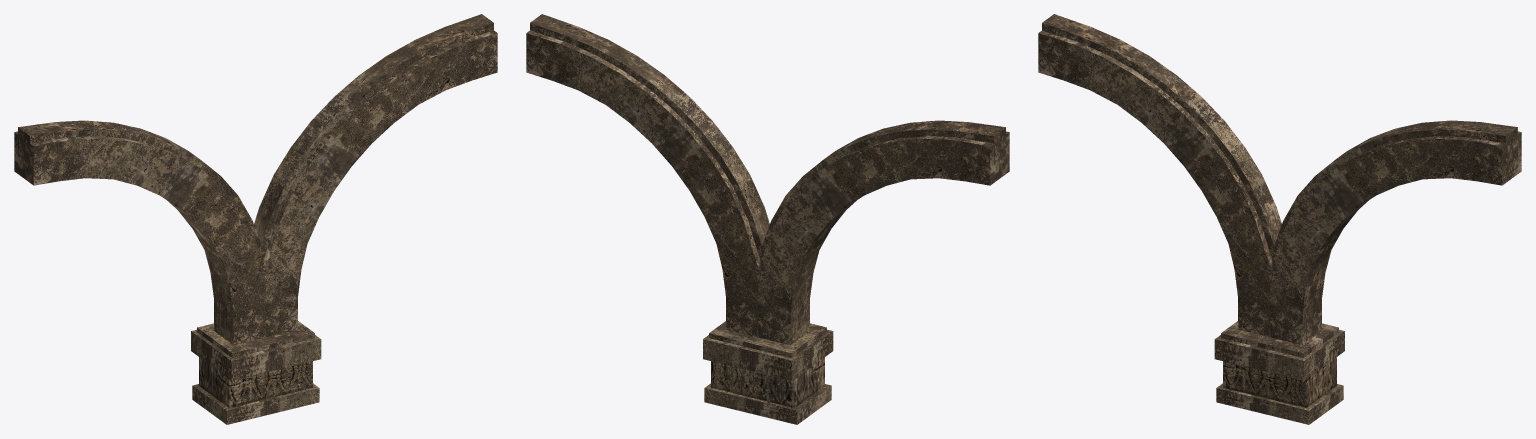
File: materials_5_arch_20.fbx
3 renders of one model, left to right at view 1: azimuth 30°, elevation 25°; view 2: azimuth 150°, elevation 25°; view 3: azimuth 330°, elevation 25°, orthographic.
Parts seen in each view (by area): view 1: materials_5_arch_20; view 2: materials_5_arch_20; view 3: materials_5_arch_20.
Boxes of the visible parts, x1,y1,x2,y2 form: materials_5_arch_20: [14, 14, 497, 424]; materials_5_arch_20: [526, 14, 1009, 424]; materials_5_arch_20: [1038, 14, 1521, 424].
Bounding box in the file's own units: 168 × 113 × 25.7.
